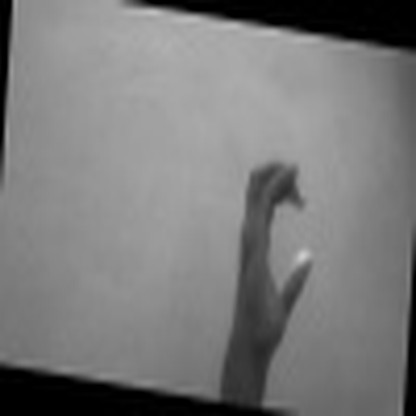c: (226, 149, 325, 365)
